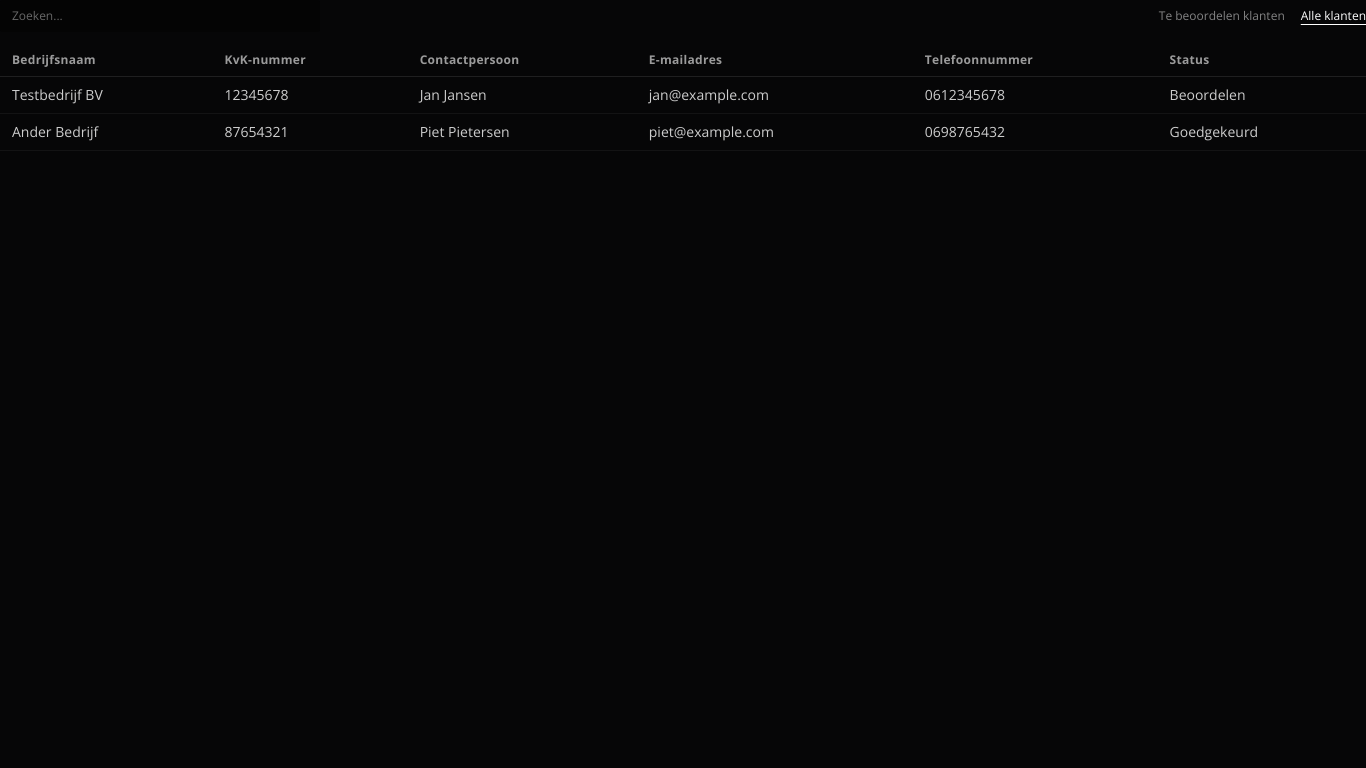
Scenario: KlantenSection › opens the KlantModal with the clicked klant's data when a row is clicked
The image size is (1366, 768).
Click the row with test id "data-table-row-uid-1".
click(683, 95)  # box [0, 76, 1365, 114]
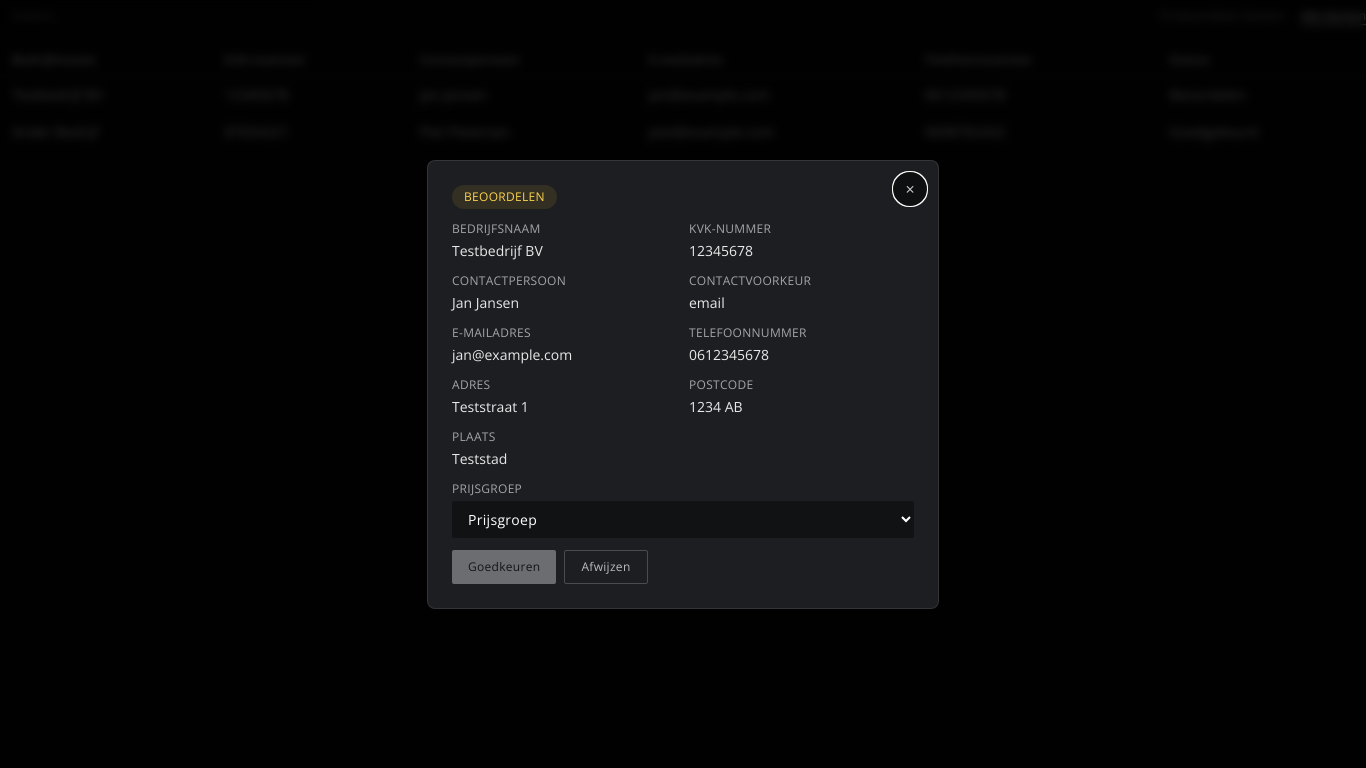
Result: the element with test id "klant-modal" shows "Testbedrijf BV" at [452, 240, 543, 260]
